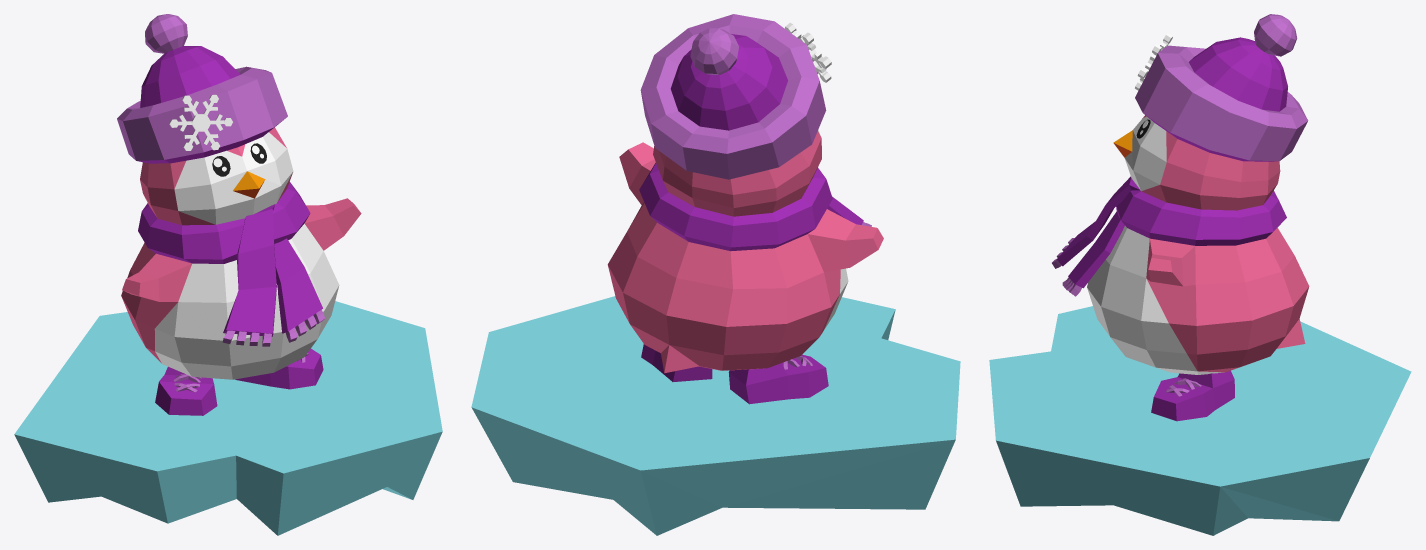
File: PeppermintPenguin.glb
The picture shows the model from 3 angles, left to right: view 1: azimuth 30°, elevation 25°; view 2: azimuth 150°, elevation 25°; view 3: azimuth 270°, elevation 25°; orthographic projection. The views are drawn at different scales.
Visible parts, largest first — view 1: group1864152446, group545300192, group1507517781, group902785975, group1910245823; view 2: group1864152446, group545300192, group1507517781, group902785975, group1910245823; view 3: group1864152446, group545300192, group902785975.
Boxes of the visible parts, left/top/right/bottom form: group1864152446: left=14, top=301, right=442, bottom=535; group545300192: left=117, top=14, right=361, bottom=379; group1507517781: left=155, top=366, right=217, bottom=415; group902785975: left=235, top=348, right=323, bottom=389; group1910245823: left=169, top=94, right=232, bottom=150; group1864152446: left=471, top=296, right=960, bottom=535; group545300192: left=607, top=14, right=883, bottom=373; group1507517781: left=728, top=354, right=828, bottom=404; group902785975: left=641, top=344, right=712, bottom=381; group1910245823: left=785, top=22, right=831, bottom=82; group1864152446: left=989, top=306, right=1411, bottom=535; group545300192: left=1052, top=14, right=1309, bottom=374; group902785975: left=1151, top=370, right=1234, bottom=421.
Bounding box in the file's own units: 1.75 × 1.72 × 1.51.
